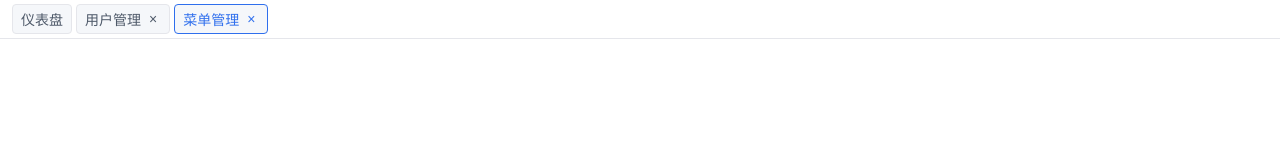
Scenario: AppTabs（自绘页签） › 切换路由累积页签且不重复；非 affix 页签可关闭
This screenshot has width=1280, height=160.
Expected: the number of links with class "app-tabs__item" is 3, [12,4,72,34]; [76,4,170,34]; [174,4,268,34]
What coordinates should you click on to do the following:
click the button with class "app-tabs__close" next to "用户管理"
I would click on:
 (153, 19)
Its box is [145,11,161,27].
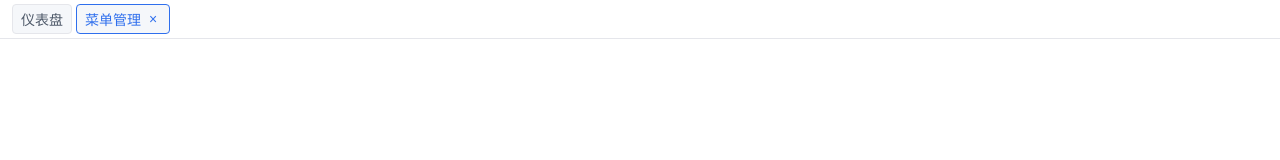
Expected: the elements with class "app-tabs__title" read "仪表盘", "菜单管理", in this order, [21,9,63,29]; [85,9,141,29]
